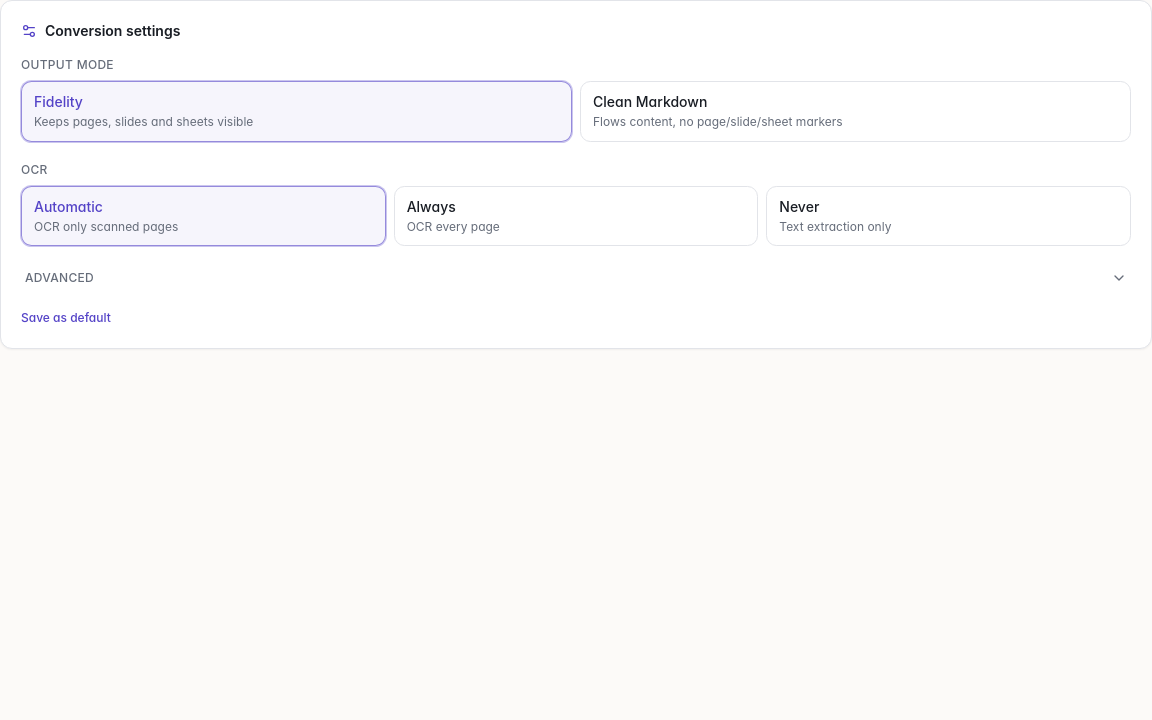
Test: SettingsPanel › expands advanced section and shows toggles
The image size is (1152, 720).
Click the button "Advanced" at (60, 278), box [21,266,1131,290]
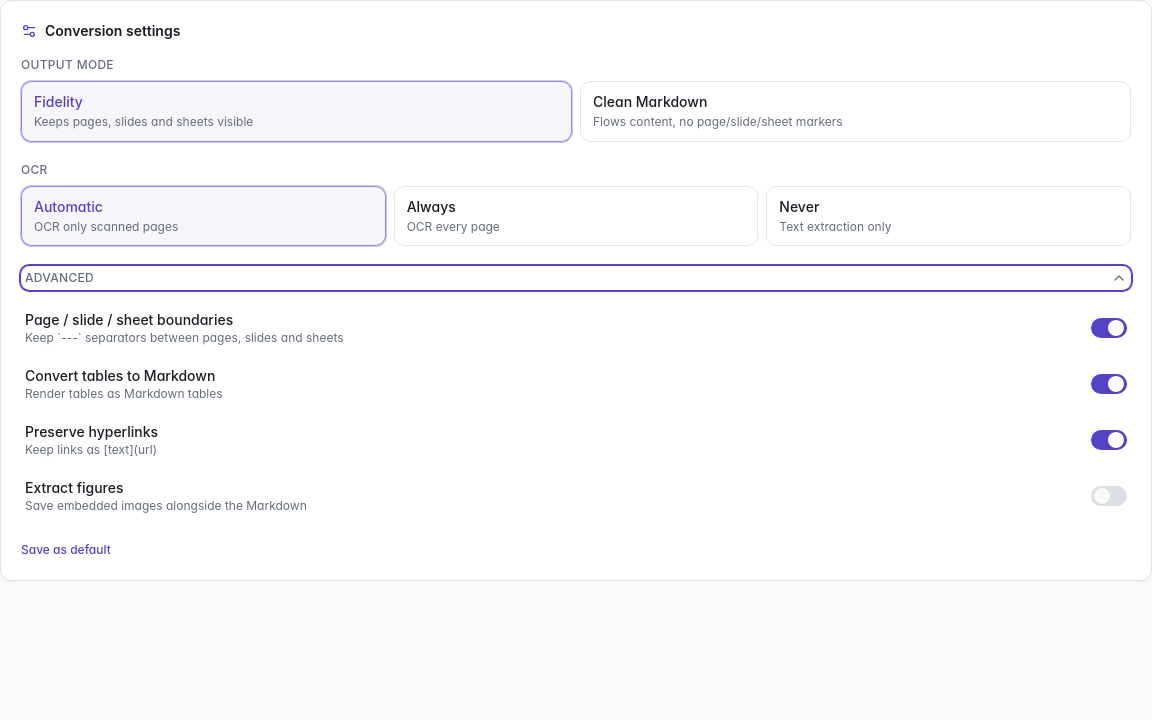
Expected: the switch named "Page / slide / sheet boundaries" is shown, [1091,318,1127,338]
Expected: the switch named "Extract figures" is shown, [1091,486,1127,506]
